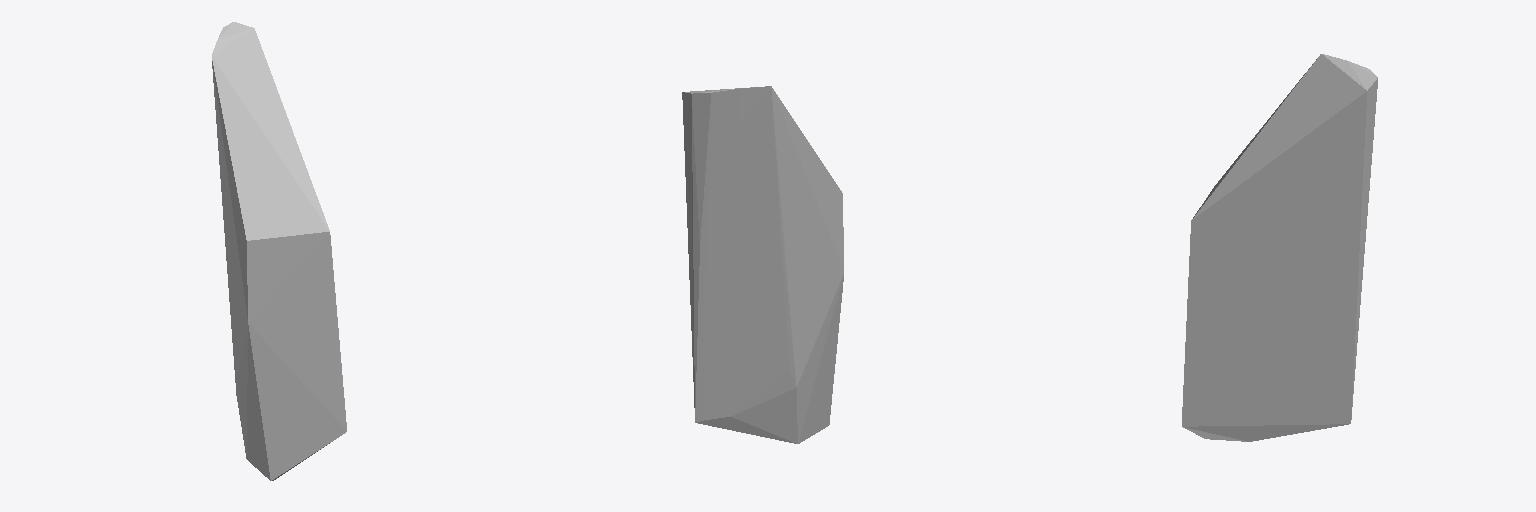
Rendered from trash_bin_collision_30.obj.
3 renders of one model, left to right at view 1: azimuth 30°, elevation 25°; view 2: azimuth 150°, elevation 25°; view 3: azimuth 270°, elevation 25°, orthographic.
Size of the model in its own units: 0.0155 by 0.0679 by 0.0314.